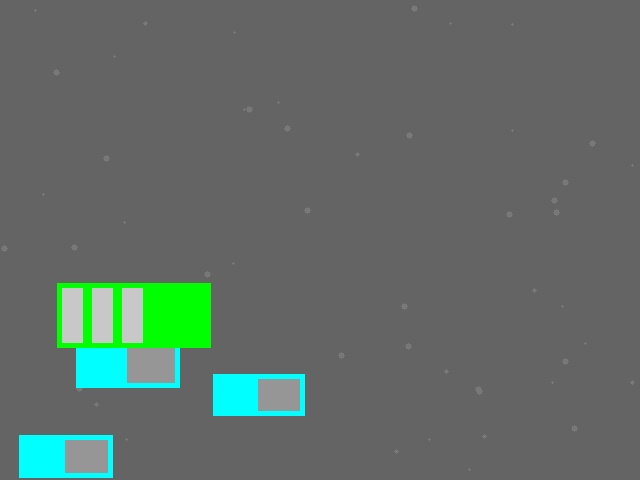bus: (57, 283, 210, 347)
truck: (76, 341, 179, 387), (19, 435, 112, 477), (213, 374, 304, 415)
